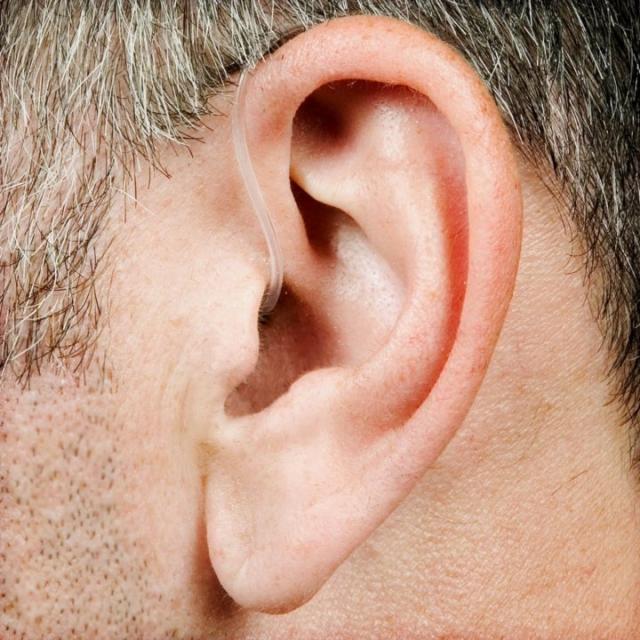earlobe: (202, 407, 337, 617)
wholeear: (202, 14, 523, 618)
